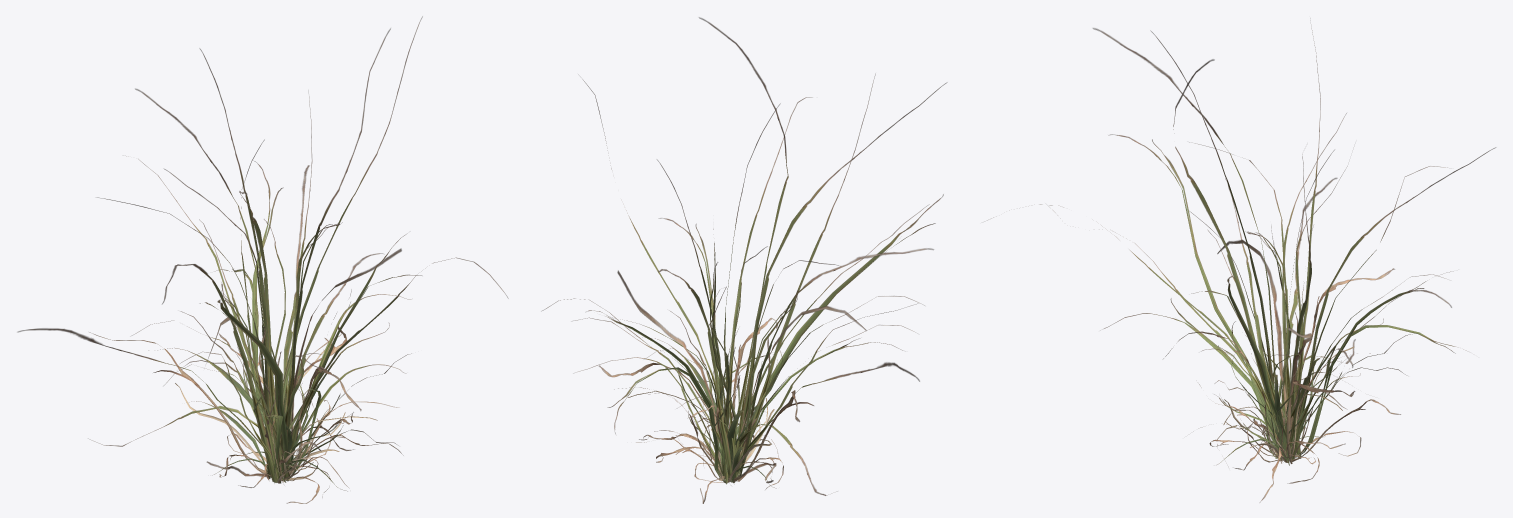
The model's file is grass_tuft.glb.
3 views of the same model, side by side, from view 1: azimuth 30°, elevation 25°; view 2: azimuth 150°, elevation 25°; view 3: azimuth 270°, elevation 25° (orthographic). The views are drawn at different scales.
Parts seen in each view (by area): view 1: grass_medium_02_e, grass_medium_02_c, grass_medium_02_a; view 2: grass_medium_02_e, grass_medium_02_c, grass_medium_02_a; view 3: grass_medium_02_e, grass_medium_02_c, grass_medium_02_a.
Boxes of the visible parts, x1,y1,x2,y2 form: grass_medium_02_e: (17, 16, 508, 503); grass_medium_02_c: (180, 219, 411, 497); grass_medium_02_a: (212, 304, 350, 491); grass_medium_02_e: (541, 17, 947, 503); grass_medium_02_c: (573, 229, 917, 480); grass_medium_02_a: (639, 329, 776, 488); grass_medium_02_e: (987, 20, 1495, 465); grass_medium_02_c: (1189, 211, 1466, 502); grass_medium_02_a: (1214, 285, 1345, 464).
Bounding box in the file's own units: 0.3556 × 0.4053 × 0.4332.
Materials: 1 (1 with a texture image).
